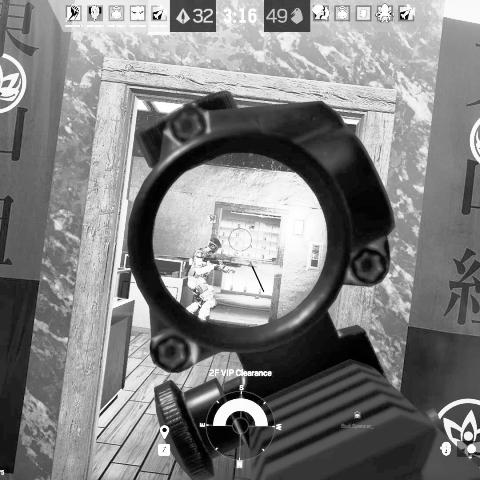Character: (184, 236, 238, 324)
Friend_label: (190, 213, 234, 235)
Head: (207, 236, 222, 254)
